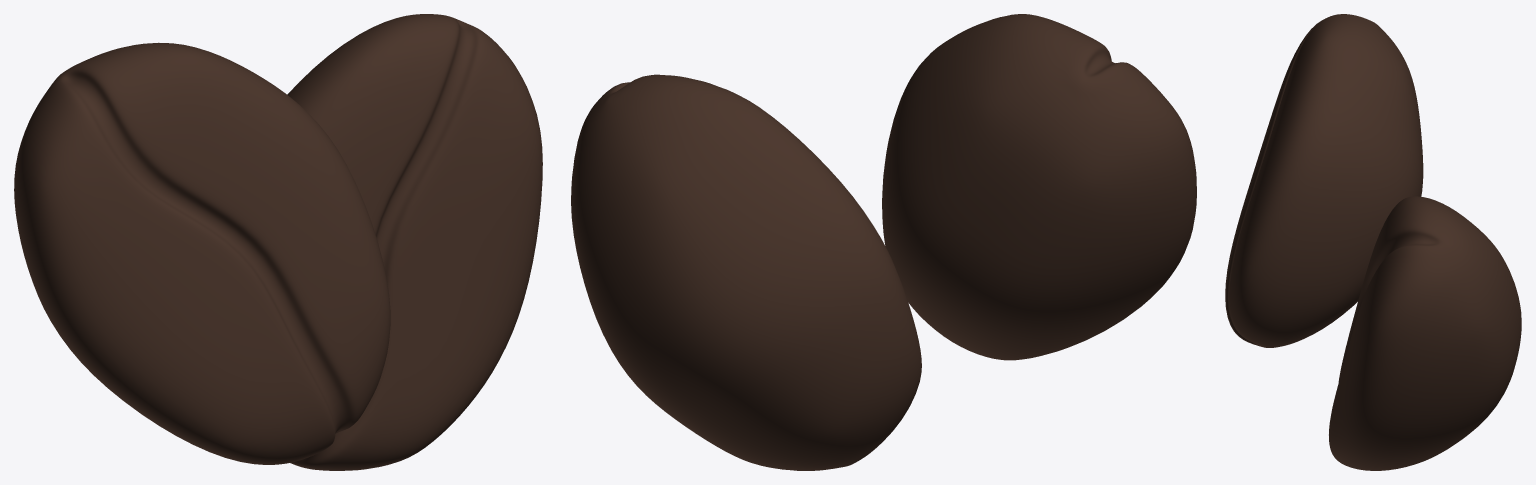
Rendered from 3d-caffeine.glb.
The picture shows the model from 3 angles, left to right: view 1: azimuth 30°, elevation 25°; view 2: azimuth 150°, elevation 25°; view 3: azimuth 270°, elevation 25°; orthographic projection. The views are drawn at different scales.
Visible parts, largest first — view 1: Cube.003, Cube.004; view 2: Cube.004, Cube.003; view 3: Cube.003, Cube.004.
Part boxes in pixels (x1,y1,x2,y2): Cube.003: (14,42,390,464); Cube.004: (287,14,542,470); Cube.004: (571,74,921,470); Cube.003: (882,14,1196,360); Cube.003: (1225,14,1423,347); Cube.004: (1329,196,1521,470).
Size of the model in its own units: 6.77 by 5.61 by 4.25.
